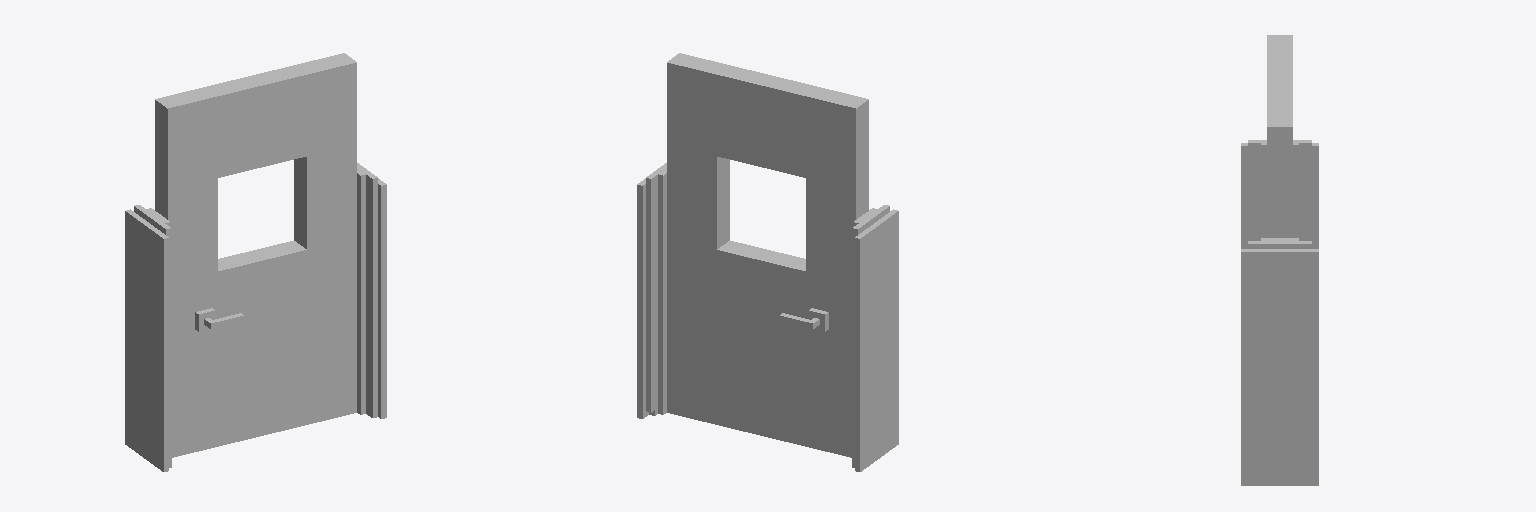
File: Door.obj
3 renders of one model, left to right at view 1: azimuth 30°, elevation 25°; view 2: azimuth 150°, elevation 25°; view 3: azimuth 270°, elevation 25°, orthographic.
Parts seen in each view (by area): view 1: Door; view 2: Door; view 3: Door.
Part boxes in pixels (x1,y1,x2,y2): Door: (125,53,386,471); Door: (637,53,898,471); Door: (1241,35,1318,485).
Size of the model in its own units: 40 by 60 by 12.